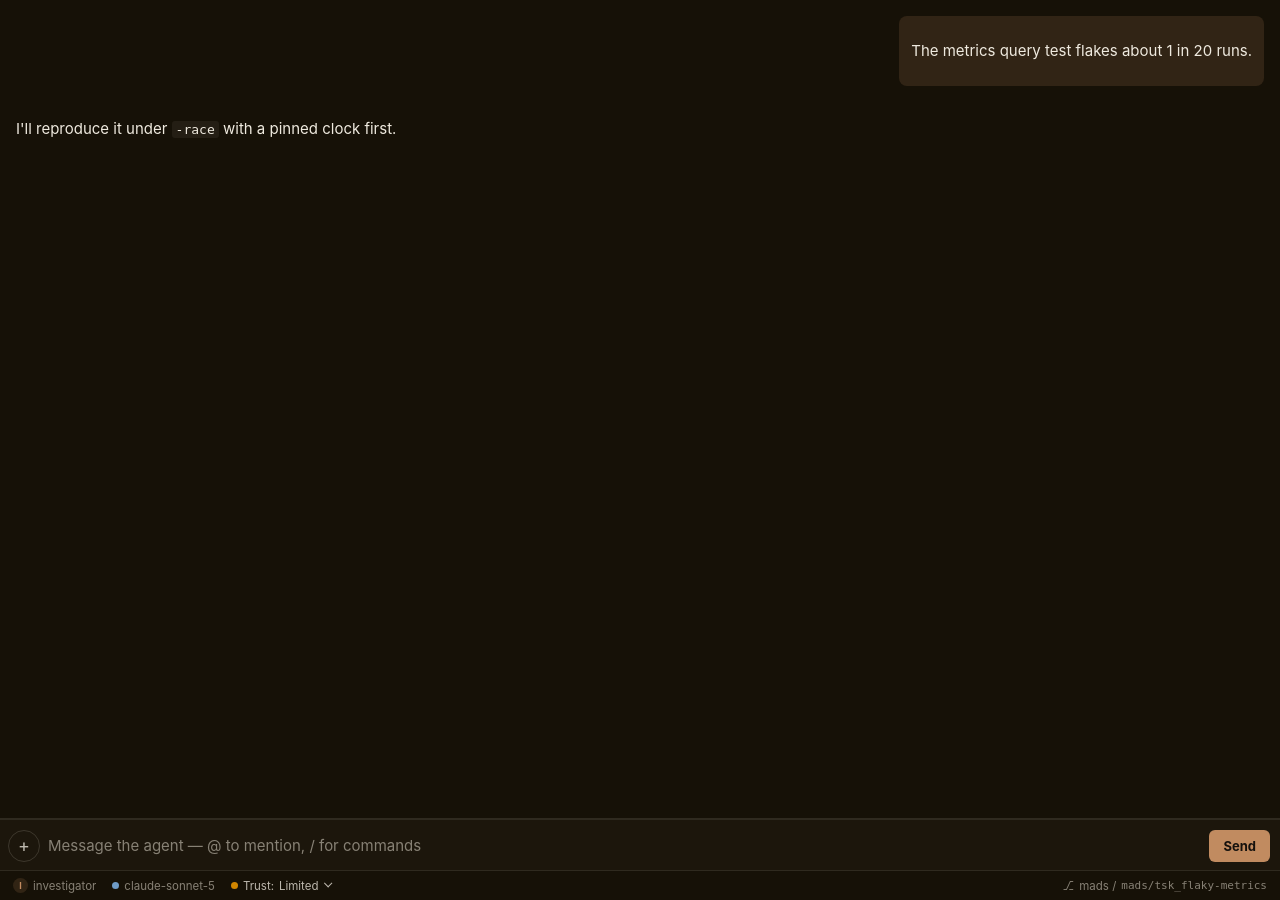
ConversationTab › keeps the composer text and shows the structured reason when waking a dormant session fails
The width and height of the screenshot is (1280, 900).
In the text box with placeholder "Message the agent — @ to mention, / for commands": (625,846) [46, 830, 1204, 862], type "hello"
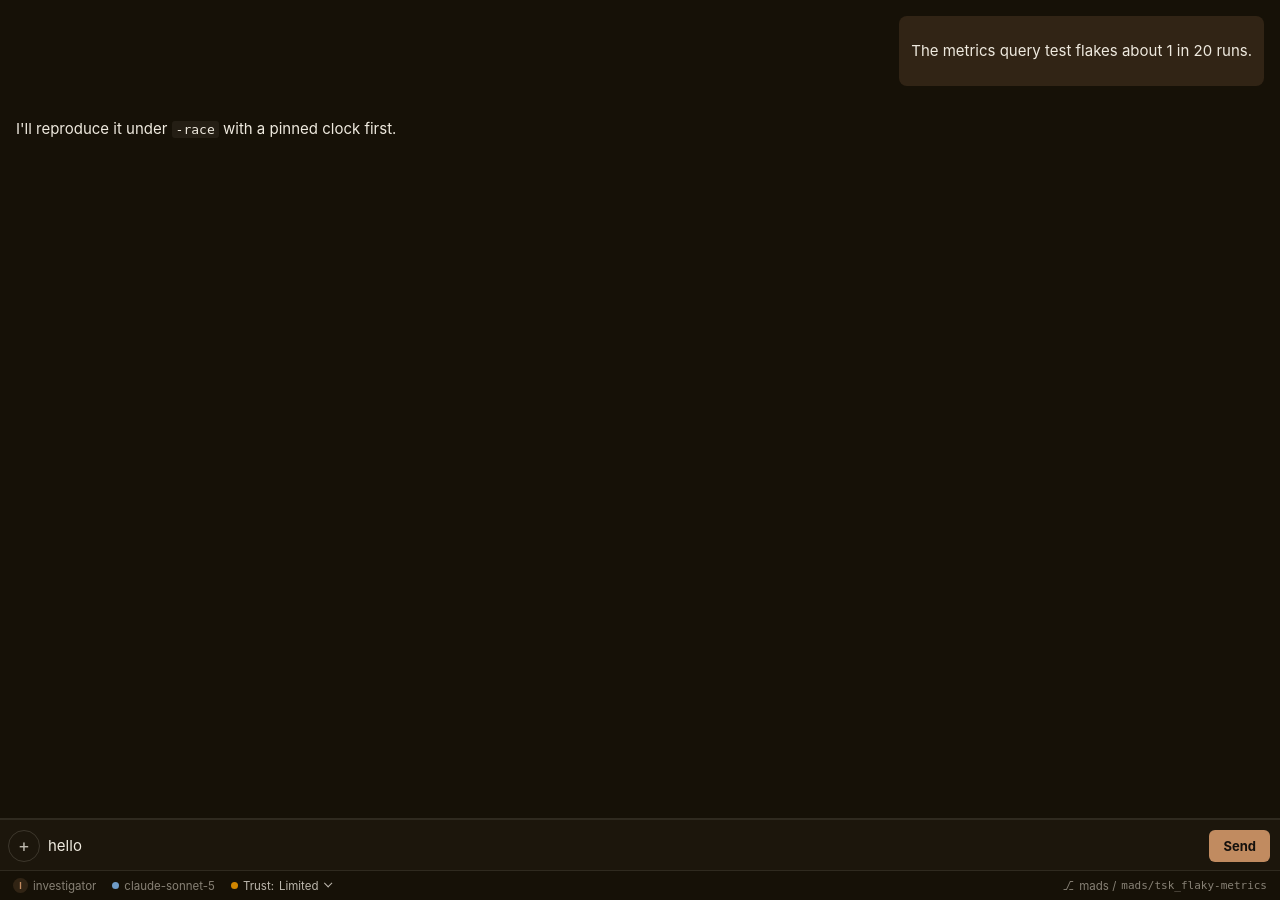
Click the button "Send": (1240,846) [1210, 830, 1270, 862]
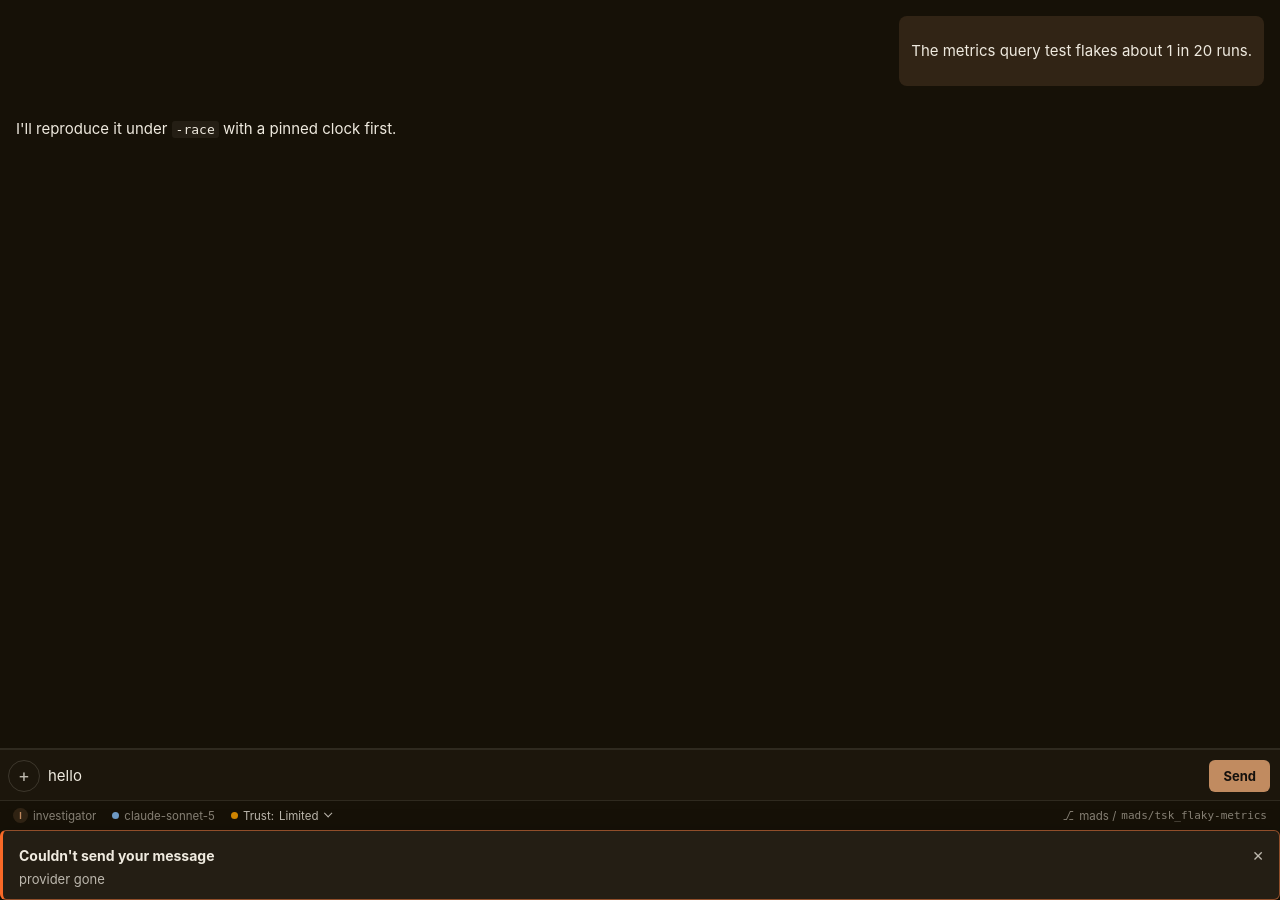
Check: the text "Couldn't send your message" is shown, box [19, 847, 214, 864]
Check: the text "provider gone" is shown, box [19, 871, 105, 887]
